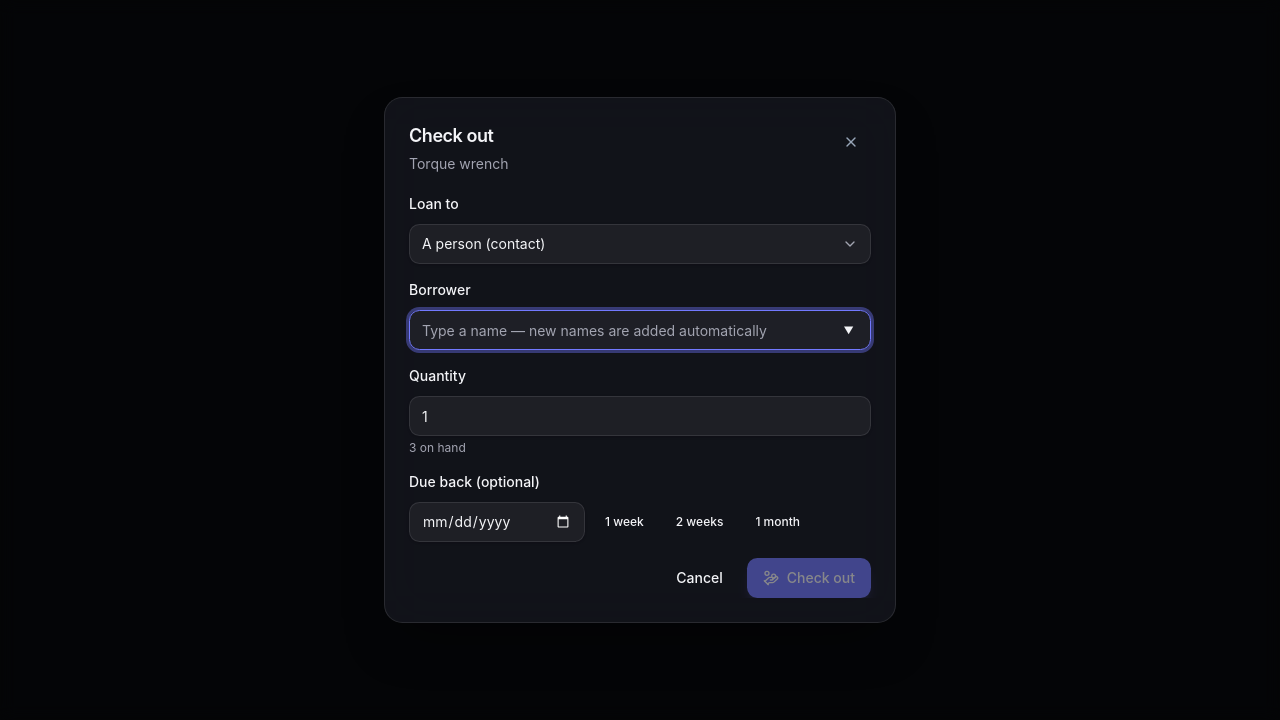
Test: CheckoutDialog — the borrower gate › disables Check out until a borrower name is entered
expect the button "Check out" is disabled: met, box left=747, top=558, right=871, bottom=598
Type "Ada Lovelace" into the field with placeholder "Type a name — new names are added automatically". click: (640, 330)
box: left=409, top=310, right=871, bottom=350
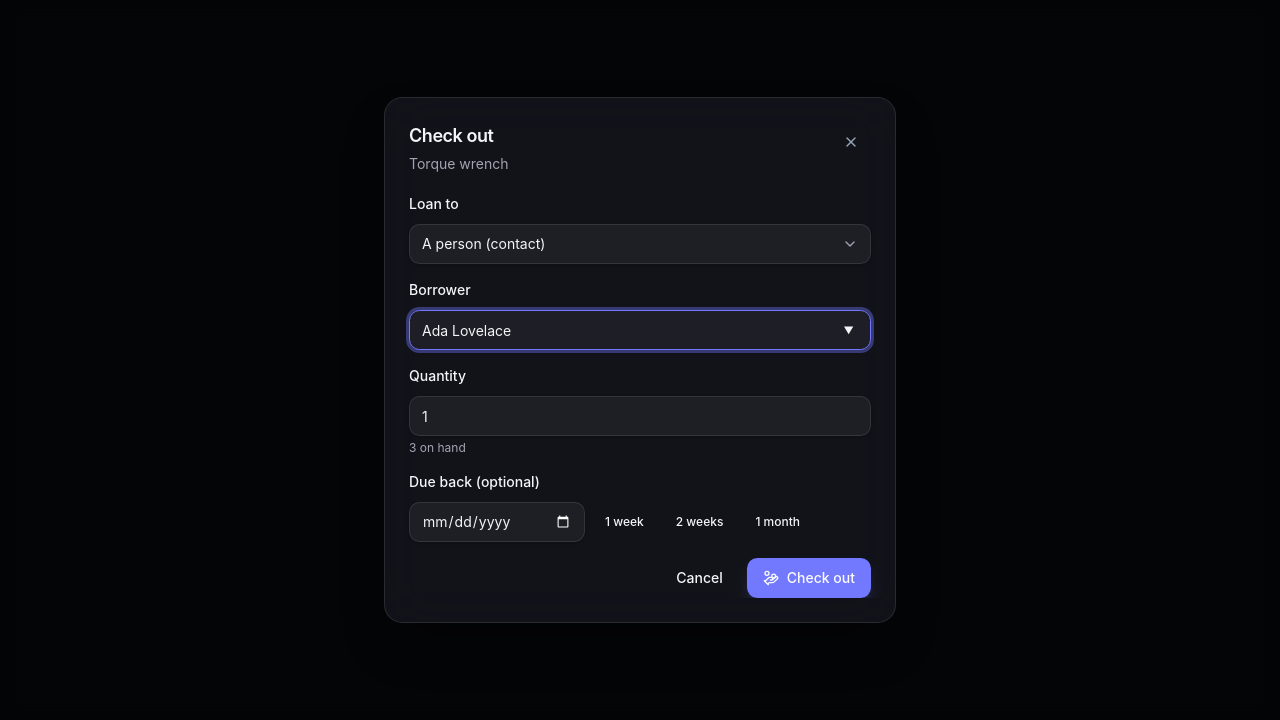
expect the button "Check out" is enabled: met, box left=747, top=558, right=871, bottom=598
